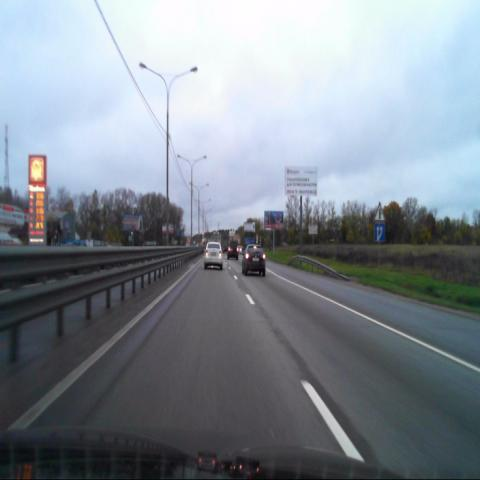2_3_2: (373, 201, 385, 222)
5_15_3: (374, 223, 386, 243)
